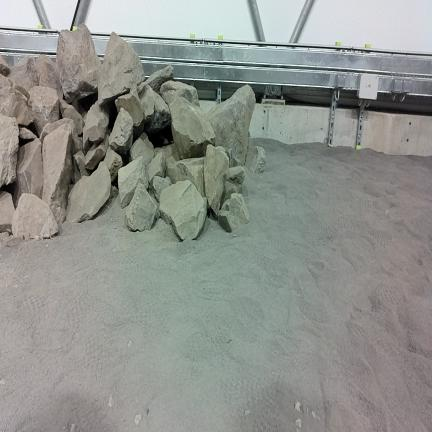Rock: (98, 32, 144, 128), (57, 24, 101, 110), (208, 85, 255, 164), (67, 162, 118, 222), (160, 180, 206, 240), (170, 97, 215, 158), (43, 125, 71, 222), (13, 138, 43, 207), (12, 194, 58, 238), (204, 145, 229, 215), (0, 75, 33, 125), (138, 83, 170, 134), (115, 85, 144, 138), (0, 114, 19, 194), (40, 119, 83, 154), (126, 184, 158, 231), (118, 157, 148, 207), (167, 158, 205, 197), (30, 86, 59, 134), (109, 108, 133, 163), (83, 102, 109, 152), (36, 55, 63, 99), (218, 194, 249, 232), (160, 81, 199, 106), (9, 57, 37, 91), (86, 134, 109, 170), (60, 100, 83, 135), (144, 66, 173, 93), (130, 133, 154, 164), (104, 146, 122, 181), (0, 191, 14, 232), (73, 151, 90, 183), (246, 145, 265, 173), (150, 176, 171, 201), (149, 152, 166, 181), (221, 181, 239, 203), (227, 166, 244, 185), (155, 144, 176, 159), (19, 127, 37, 143), (227, 149, 241, 167), (151, 133, 169, 146), (0, 55, 10, 76), (72, 101, 86, 116), (152, 197, 160, 220), (167, 152, 179, 167), (82, 111, 87, 124)
